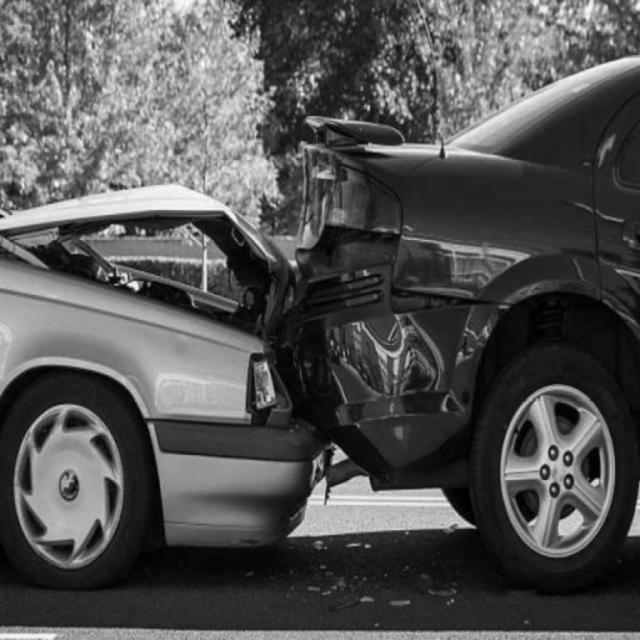accident: (6, 114, 640, 584)
